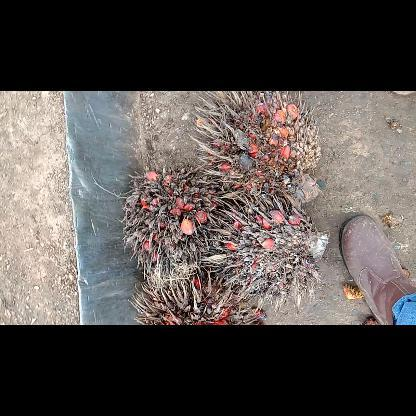Terlalu masak: (185, 91, 329, 217), (204, 187, 336, 317), (117, 163, 243, 281), (126, 264, 270, 324)
